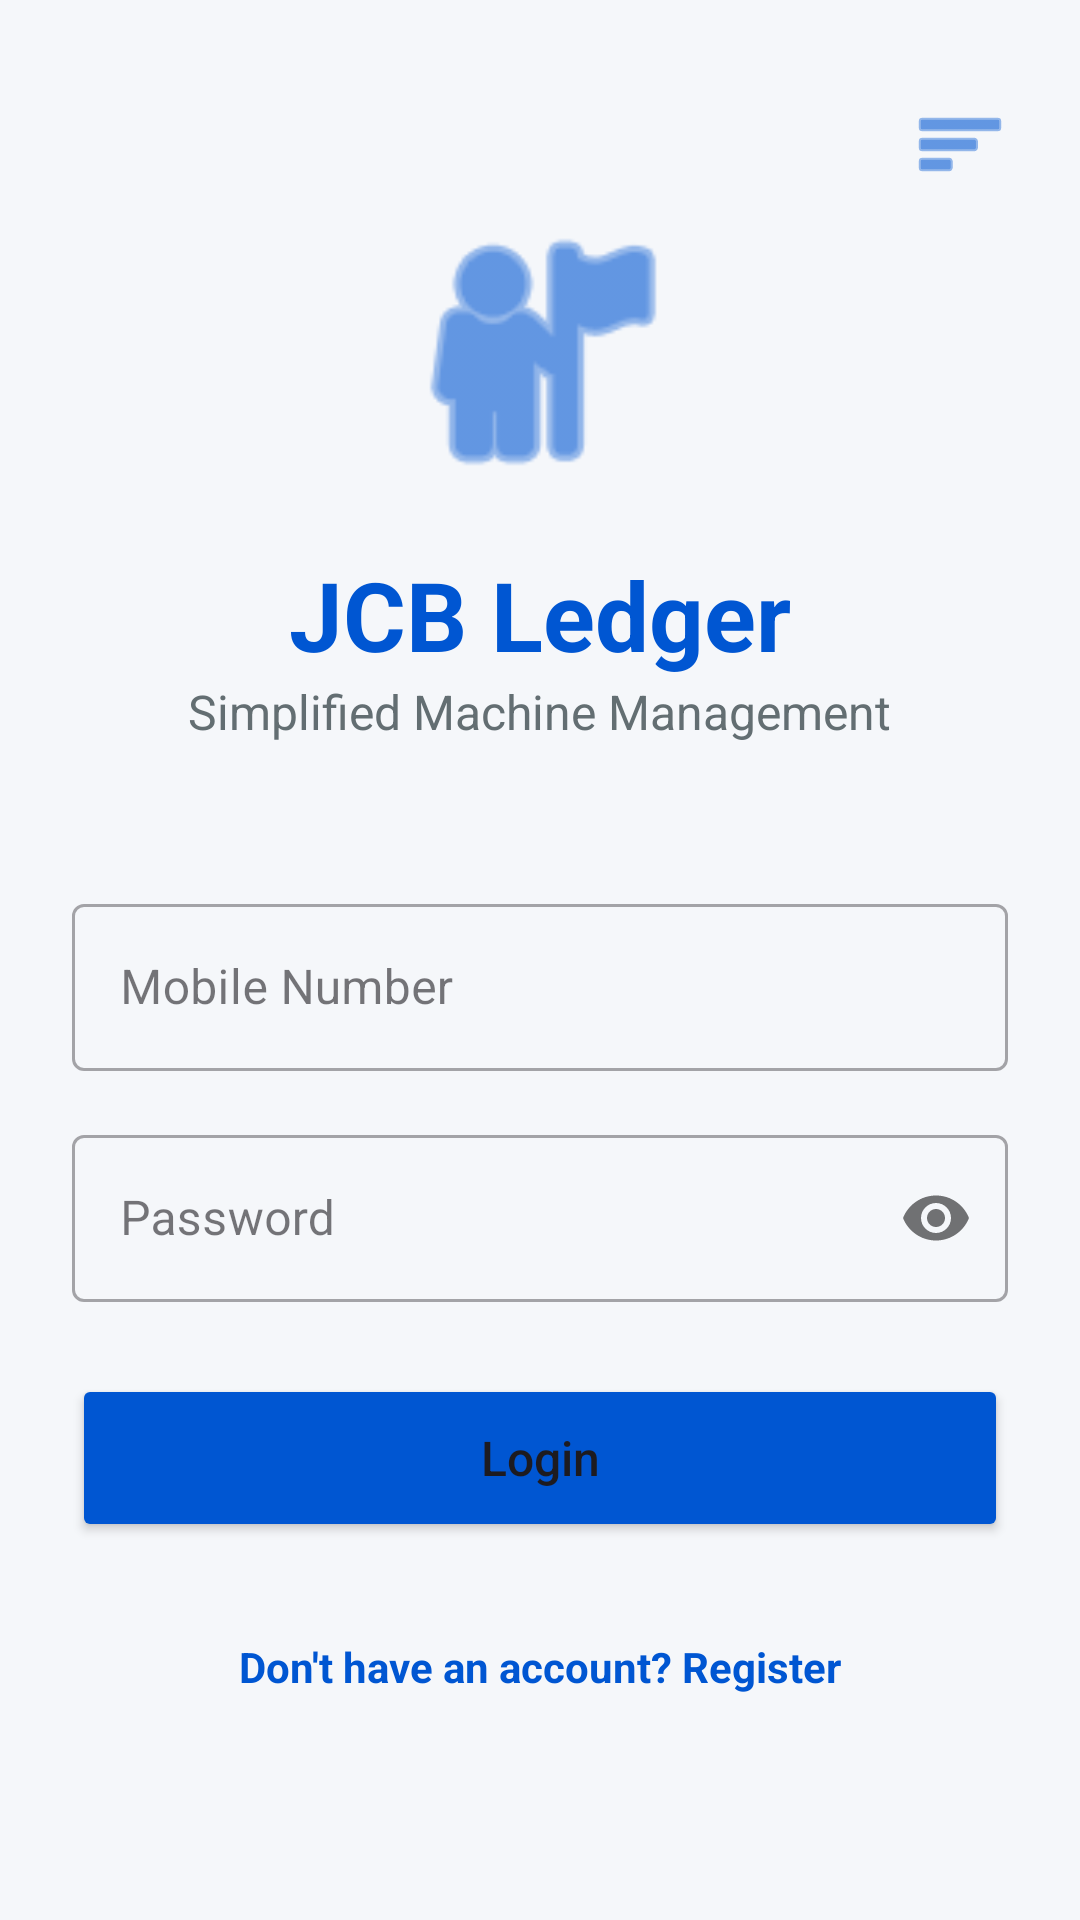

Icon bounding boxes for this 1080×1920 phone screenshot, format (x1, y1, x2, y2):
Menu: (919, 118, 1001, 171)
